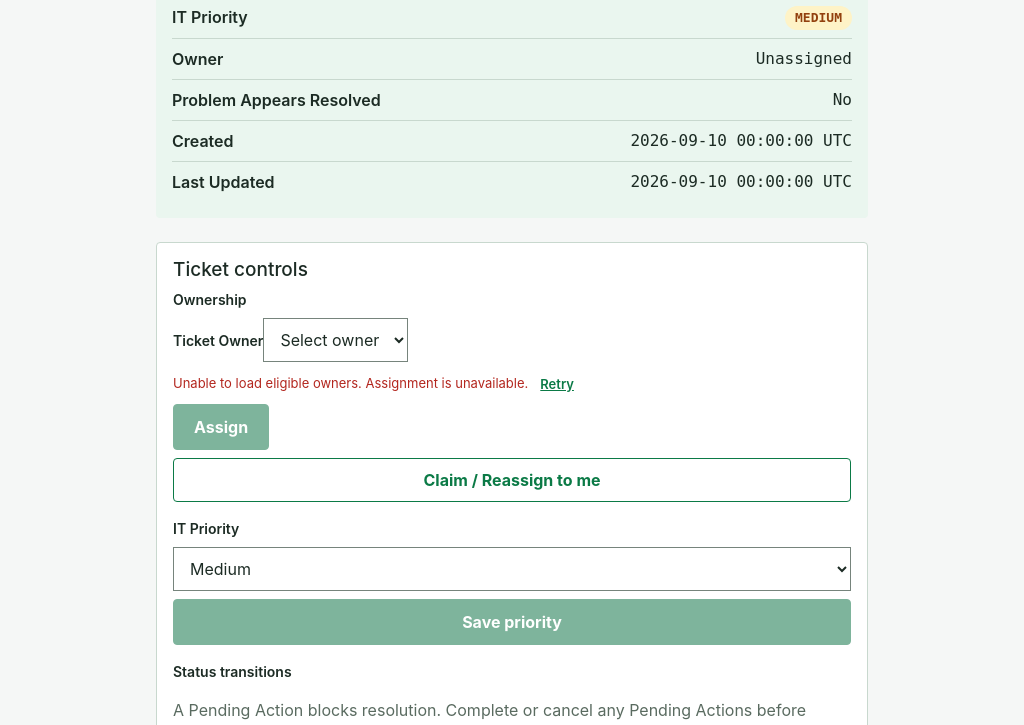
Test: UI-STAFF-01 — Staff Ticket Detail (AC-11–14) › restores assignment controls after retrying a failed owner lookup
The width and height of the screenshot is (1024, 725).
(page scrolled)
expect the text "Unable to load eligible owners. Assignment is unavailable." is shown: met, box [173,376,528,392]
Click the button "Retry".
click(557, 384)  # box [528,364,586,404]
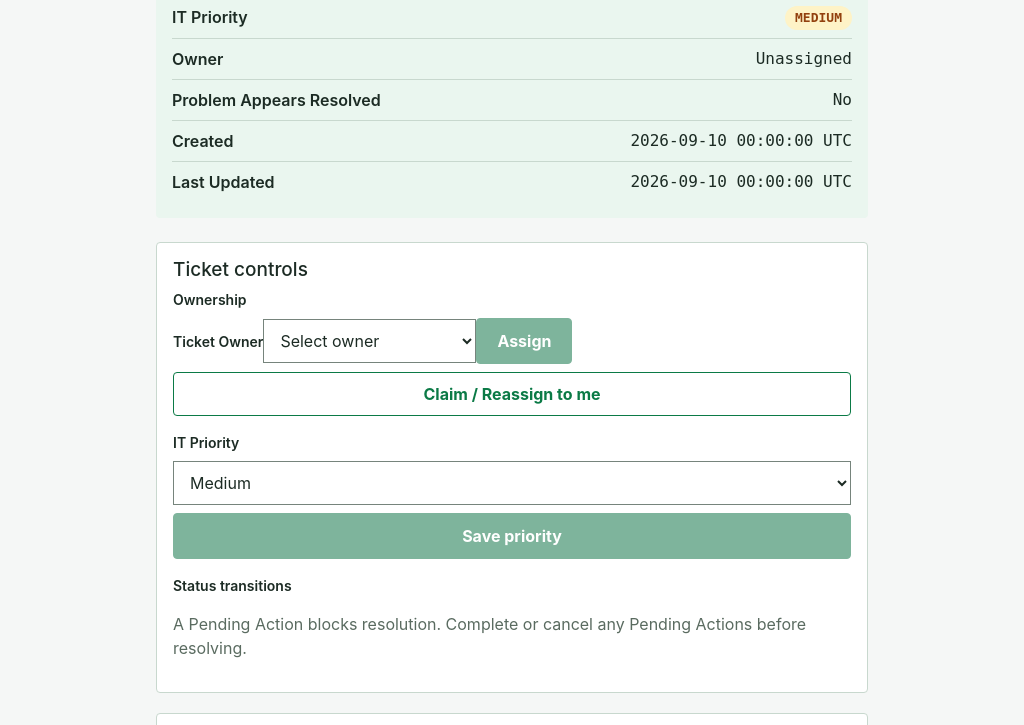
expect the dropdown labelled "Ticket Owner" is enabled: met, box [263,319,476,363]
expect the text "Assignment is unavailable" is gone: met
